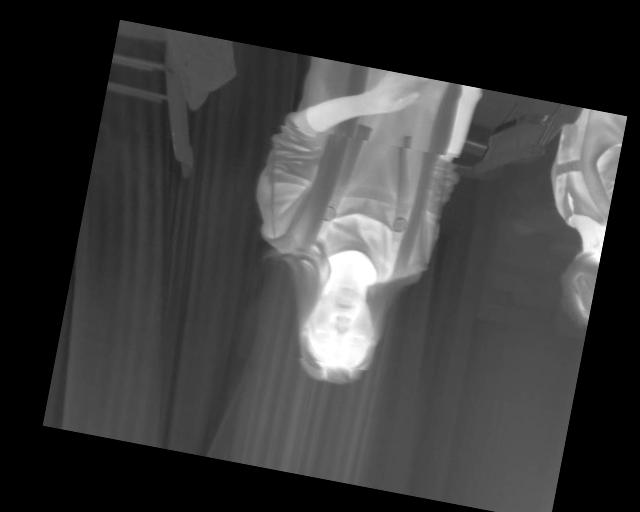face: (292, 280, 386, 389)
